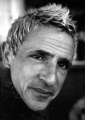male: (14, 25, 70, 111)
